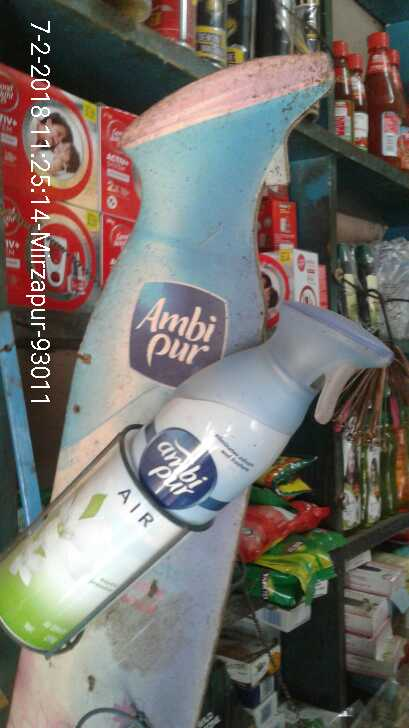ambipure: (1, 321, 398, 678)
